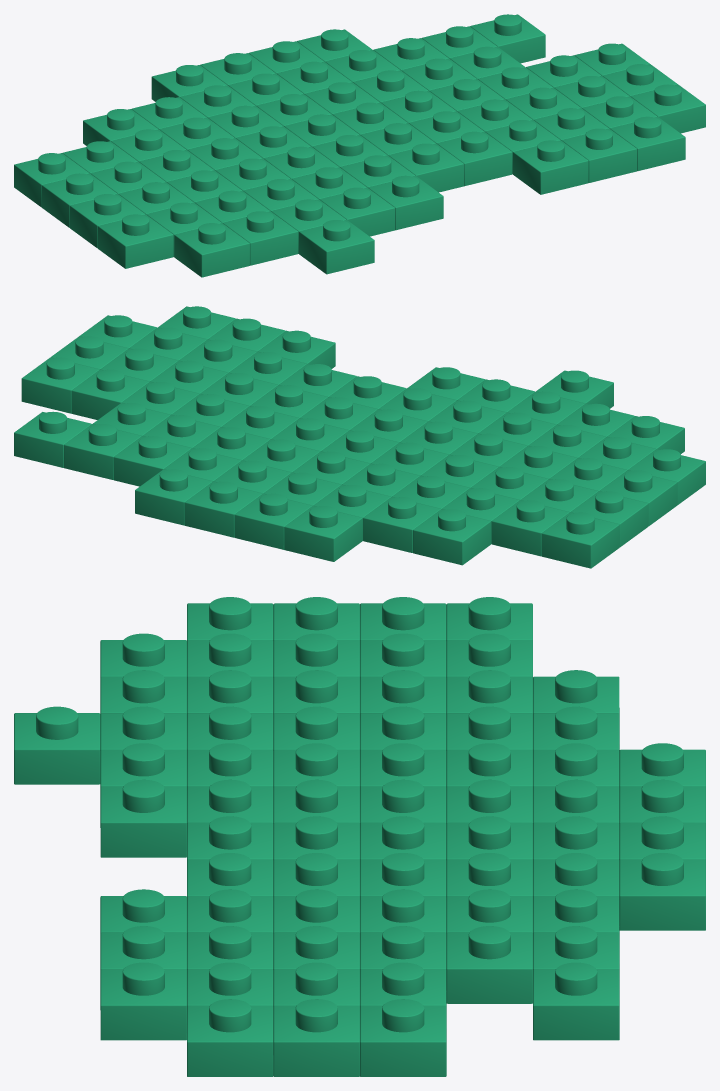
Rendered from IceLand.fbx.
3 views of the same model, one above another, from view 1: azimuth 30°, elevation 25°; view 2: azimuth 150°, elevation 25°; view 3: azimuth 270°, elevation 25° (orthographic). The views are drawn at different scales.
Parts seen in each view (by area): view 1: Cube_42; view 2: Cube_42; view 3: Cube_42.
Part boxes in pixels (bbox=[...]): Cube_42: bbox=[14, 14, 705, 277]; Cube_42: bbox=[14, 306, 705, 568]; Cube_42: bbox=[14, 597, 705, 1076].
Size of the model in its own units: 1200 by 65.03 by 800.
